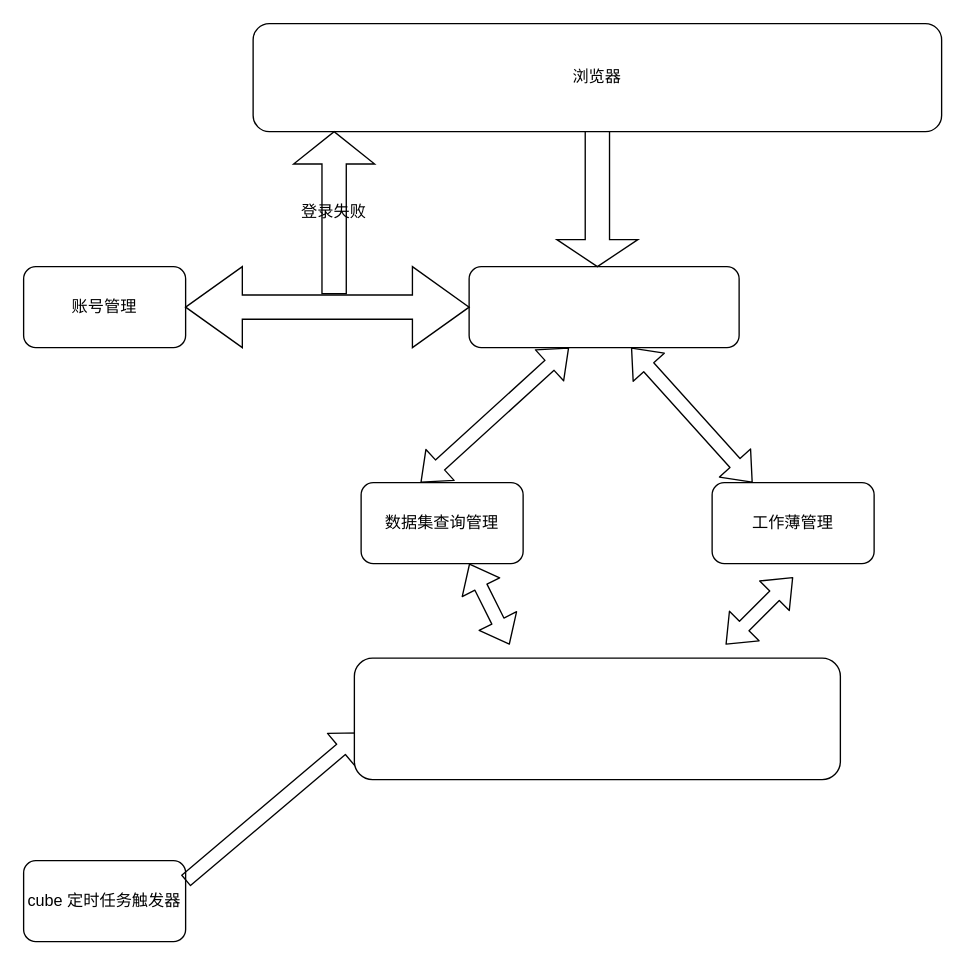
This 965x965 diagram has some shape labels left out. The box of each missing label's shape, as (x1, y1, x2, y2) in pixels:
kylin: (353, 657, 840, 780)
校验登录: (184, 265, 469, 348)
网关 / 接口分发: (468, 265, 739, 348)
